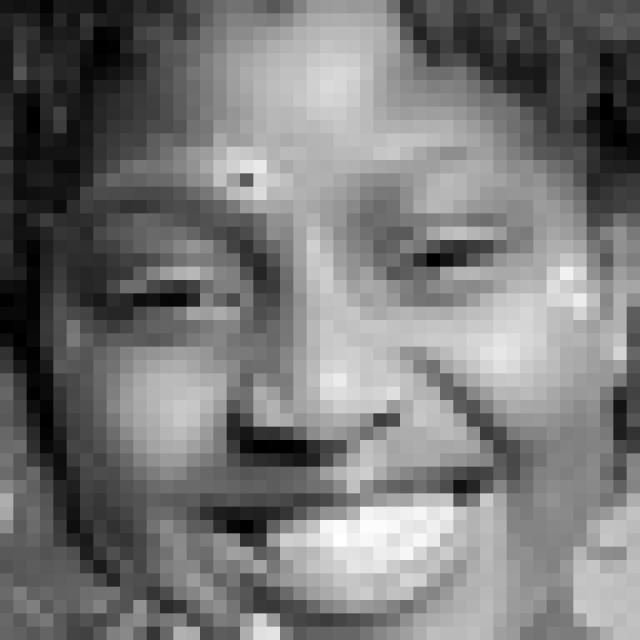happy: (72, 175, 546, 628)
